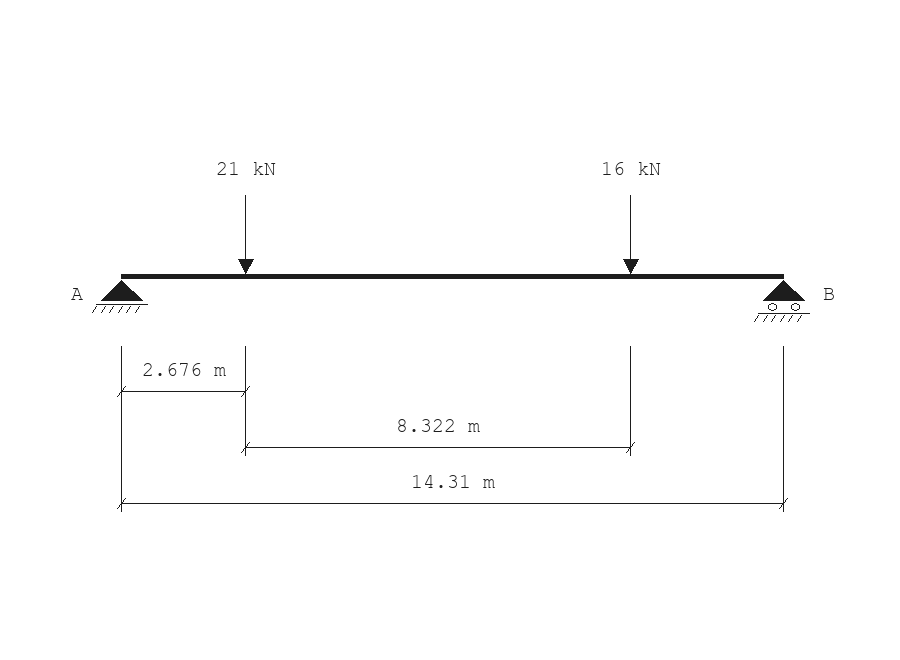pin_support: (92, 280, 148, 313)
point_load: (238, 195, 254, 274), (623, 195, 639, 274)
roller_support: (754, 280, 810, 322)
